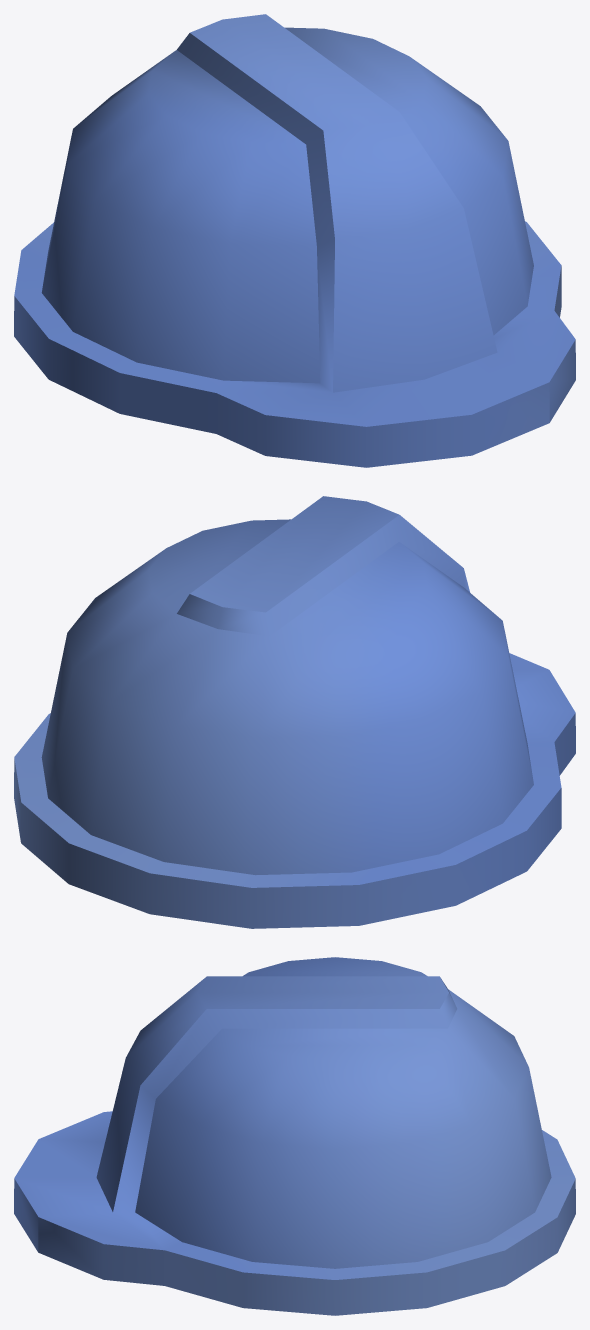
Rendered from Charakter_Builder_cap.FBX.
3 renders of one model, top to bottom at view 1: azimuth 30°, elevation 25°; view 2: azimuth 150°, elevation 25°; view 3: azimuth 270°, elevation 25°, orthographic. The views are drawn at different scales.
Parts seen in each view (by area): view 1: Charakter_Builder_cap; view 2: Charakter_Builder_cap; view 3: Charakter_Builder_cap.
Part boxes in pixels (bbox=[...]): Charakter_Builder_cap: bbox=[14, 14, 575, 467]; Charakter_Builder_cap: bbox=[14, 496, 575, 928]; Charakter_Builder_cap: bbox=[14, 957, 575, 1315].
Size of the model in its own units: 144 by 168 by 73.12.
